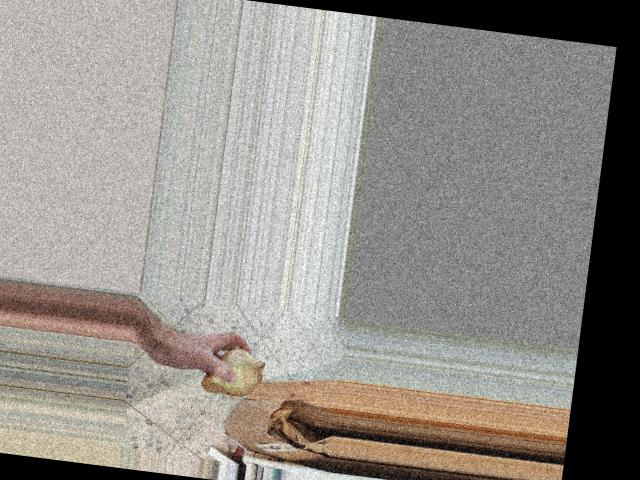onion: (198, 339, 267, 402)
